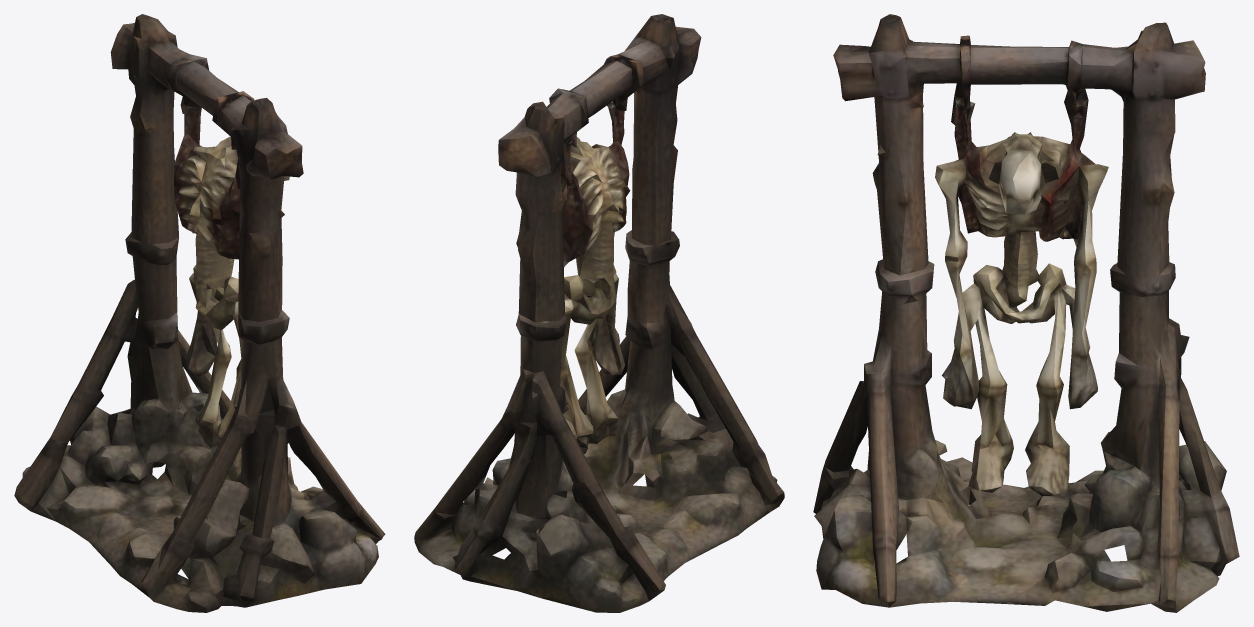
The model's file is prop-troll-gibbet.glb.
3 views of the same model, side by side, from view 1: azimuth 30°, elevation 25°; view 2: azimuth 150°, elevation 25°; view 3: azimuth 270°, elevation 25° (orthographic). The views are drawn at different scales.
Parts seen in each view (by area): view 1: prop-troll-gibbet; view 2: prop-troll-gibbet; view 3: prop-troll-gibbet.
Part boxes in pixels (x1=…): prop-troll-gibbet: x1=14, y1=14, x2=385, y2=612; prop-troll-gibbet: x1=414, y1=14, x2=784, y2=612; prop-troll-gibbet: x1=813, y1=14, x2=1239, y2=612.
Size of the model in its own units: 4.58 by 8.45 by 6.12.
Materials: 1 (1 with a texture image).
